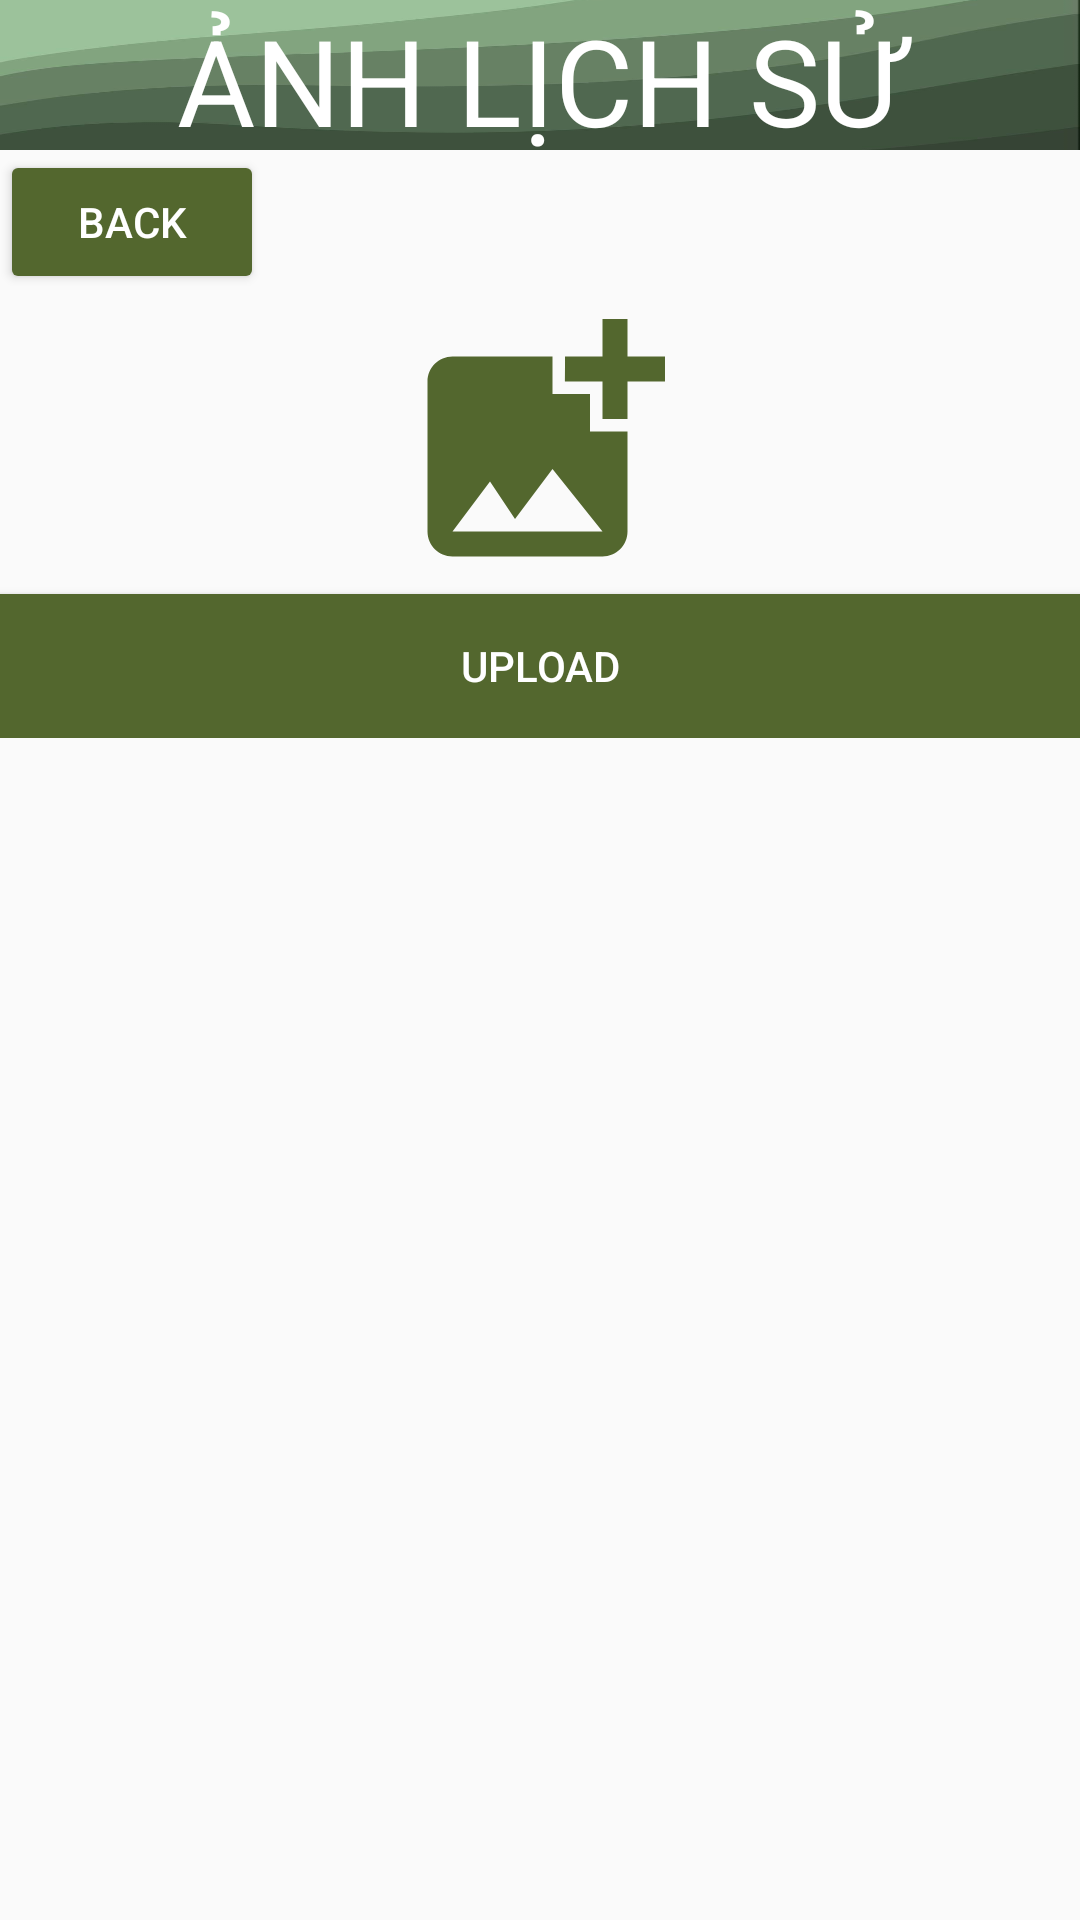

Icon bounding boxes for this 1080px x 1920px phone screenshot, format (x1, y1, x2, y2):
add photo: (427, 319, 665, 557)
